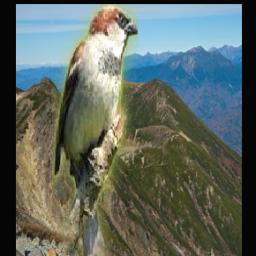Sparrow: (53, 4, 139, 256)
